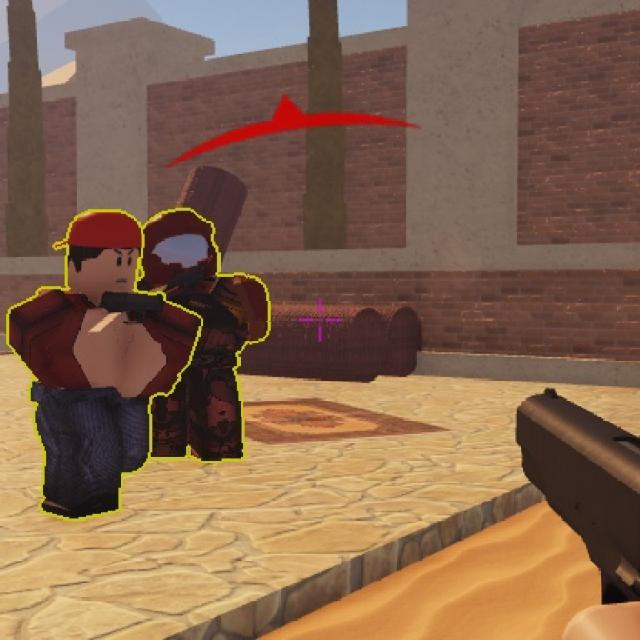player: (9, 197, 160, 522), (158, 197, 262, 489)
